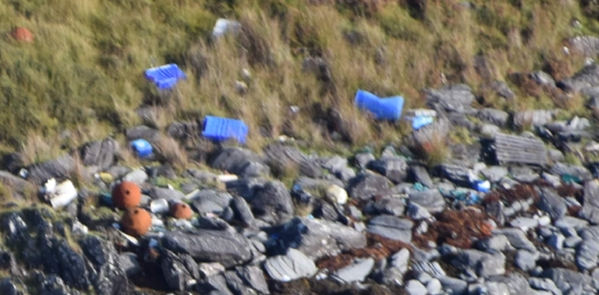cuboid: (481, 124, 557, 172)
scattered_barrel: (6, 13, 437, 156), (40, 174, 195, 244), (399, 172, 499, 213)
white_in_green: (307, 167, 359, 219)
